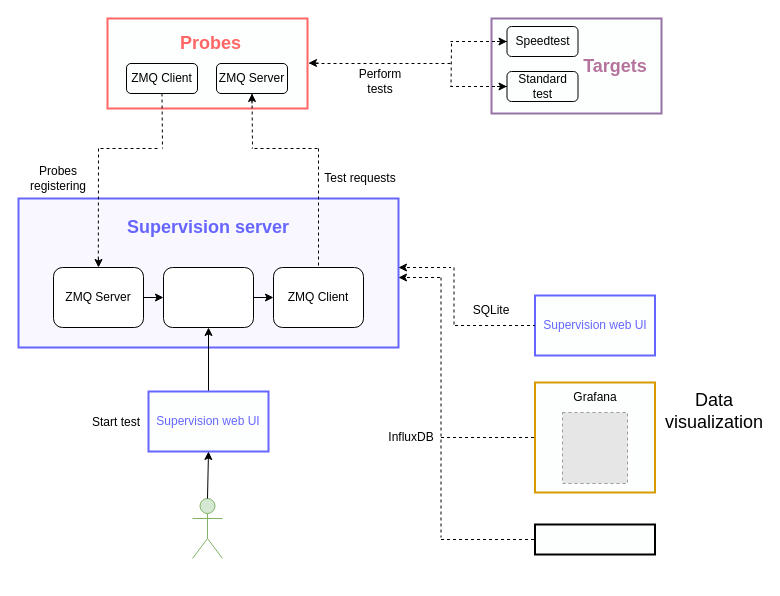
Some shapes in this 780 by 596 pixel diagram are drawn without their labels. Grey dashed boxes stand in for pictures. Each missing label, with the centre of its shape:
"API clients" belongs at point 595,539.
"HTTP server" belongs at point 208,297.
"Users" belongs at point 207,528.
